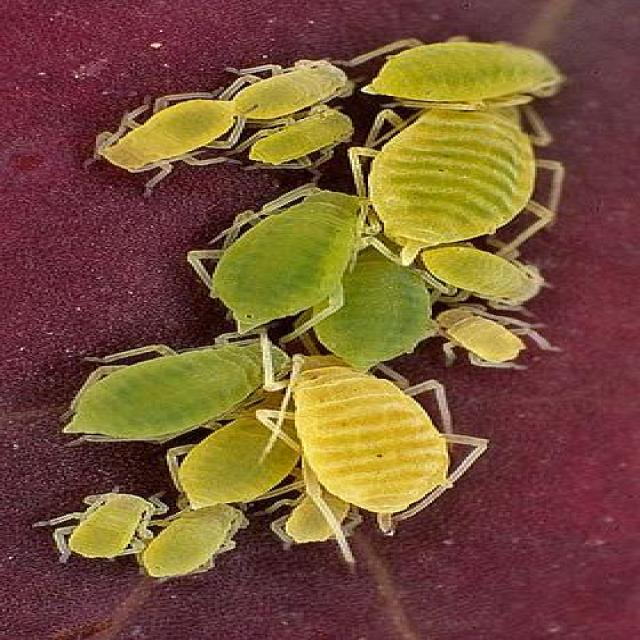Aphids: (258, 349, 501, 544), (64, 300, 306, 450), (380, 86, 569, 256), (205, 182, 372, 348), (78, 87, 258, 200), (348, 29, 578, 102), (201, 44, 359, 130), (183, 414, 327, 501), (43, 481, 167, 580), (125, 505, 258, 584), (411, 247, 566, 310), (420, 311, 539, 366)
